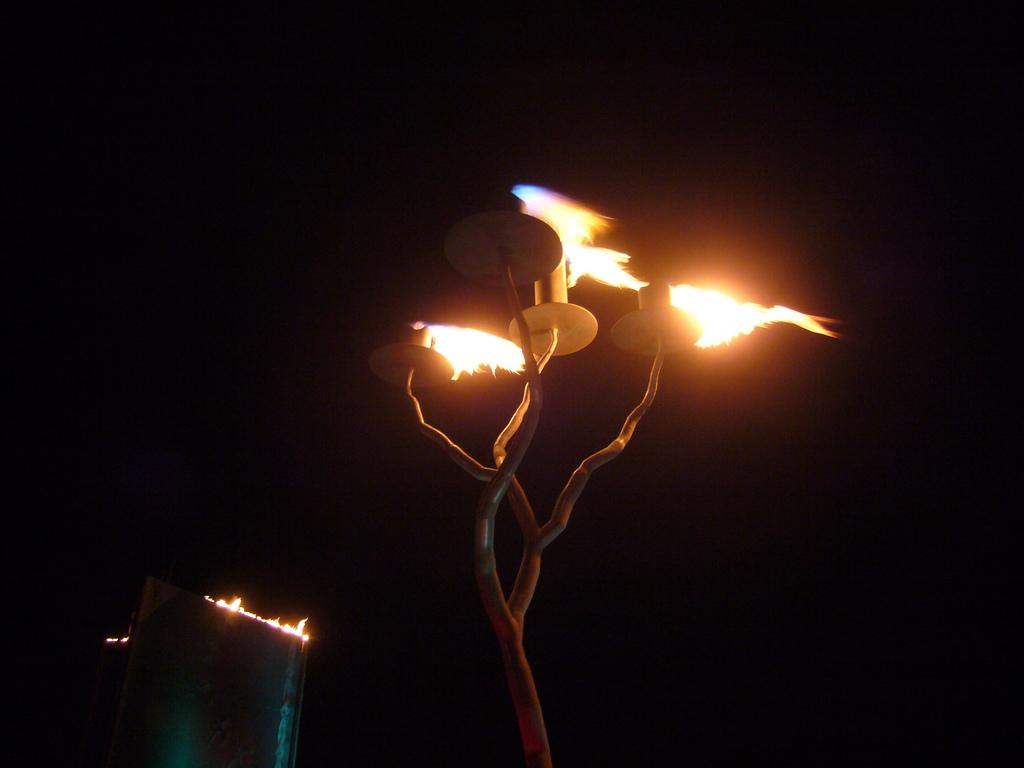fire: (428, 326, 528, 374), (682, 292, 762, 340), (572, 246, 638, 284)
